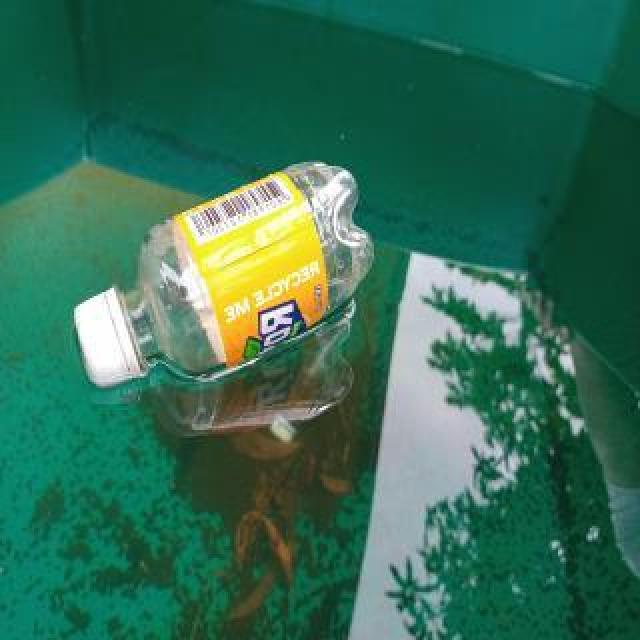Bottle: (63, 153, 380, 401)
